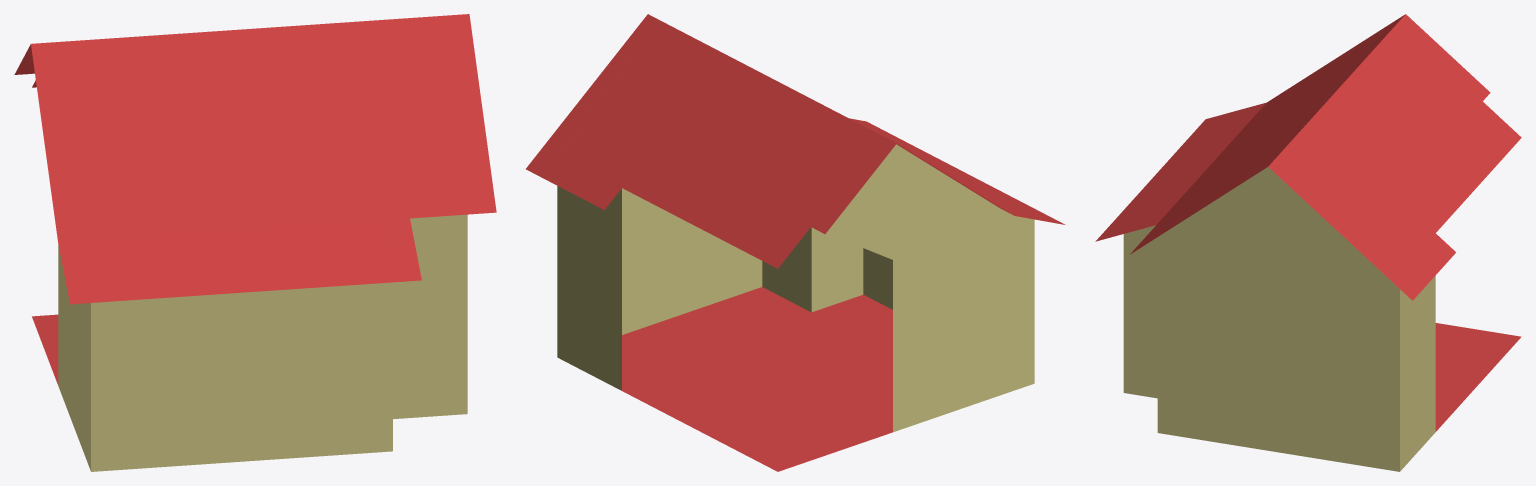
3 renders of one model, left to right at view 1: azimuth 30°, elevation 25°; view 2: azimuth 150°, elevation 25°; view 3: azimuth 270°, elevation 25°, orthographic. The views are drawn at different scales.
Size of the model in its own units: 16.71 by 14.47 by 11.
